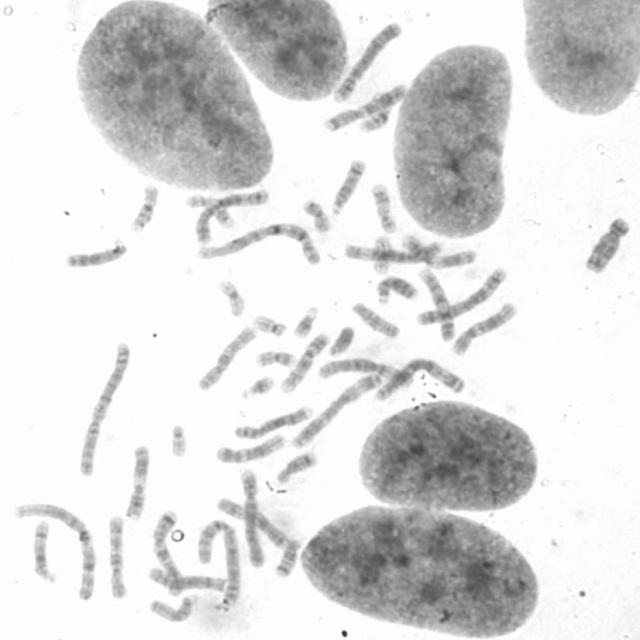A1: (12, 501, 98, 602), (196, 221, 319, 265)
A2: (74, 339, 132, 478), (194, 516, 243, 610)
A3: (289, 369, 386, 450), (371, 354, 466, 402)
B4: (331, 19, 404, 104), (236, 466, 268, 569)
B5: (413, 264, 508, 328), (191, 187, 270, 244)
C10: (194, 323, 259, 392), (105, 514, 128, 600)
C11: (398, 232, 478, 270), (123, 441, 151, 520)
C12: (448, 298, 519, 357), (214, 430, 287, 465)
C6: (316, 356, 415, 390), (338, 237, 442, 263)
C7: (320, 81, 409, 134), (150, 508, 185, 598)
C8: (232, 402, 313, 440), (145, 564, 228, 594)
C9: (277, 330, 331, 395), (415, 264, 457, 342)
D13: (62, 238, 128, 270), (373, 274, 419, 306)
D14: (328, 157, 366, 217), (29, 515, 58, 585)
D15: (349, 300, 402, 340), (147, 590, 199, 624)
E16: (355, 83, 397, 134), (128, 182, 160, 234)
E17: (183, 192, 236, 230), (369, 180, 398, 234)
E18: (274, 450, 319, 484), (271, 534, 302, 580)
F19: (214, 277, 247, 318), (369, 232, 393, 276)
F20: (300, 196, 332, 234), (252, 347, 297, 370)
G21: (290, 302, 320, 339), (238, 372, 276, 400)
G22: (250, 312, 288, 337), (168, 421, 188, 458)
X: (217, 494, 294, 554)
Y: (325, 323, 355, 357)
